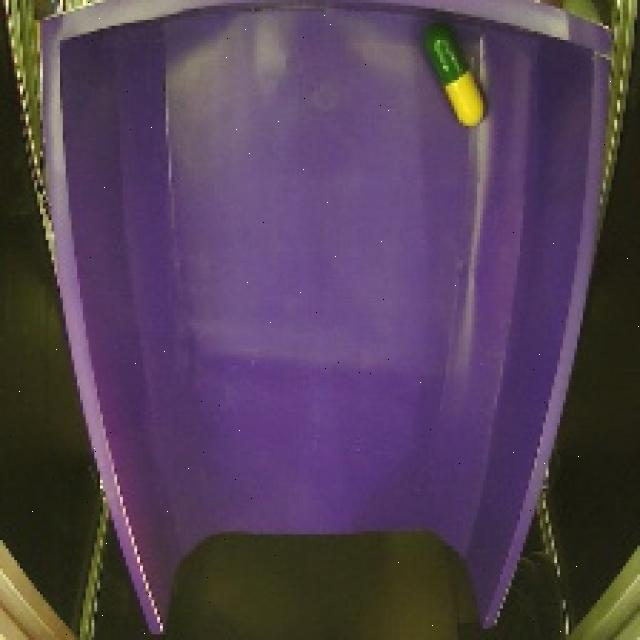small: (415, 15, 490, 138)
